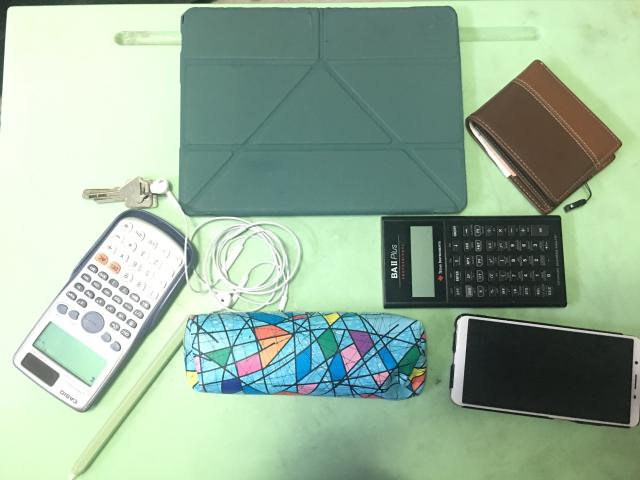Keys: (82, 176, 158, 209)
Mobile phone: (450, 315, 640, 428)
Wallet: (465, 60, 621, 214)
wire: (151, 175, 301, 311)
